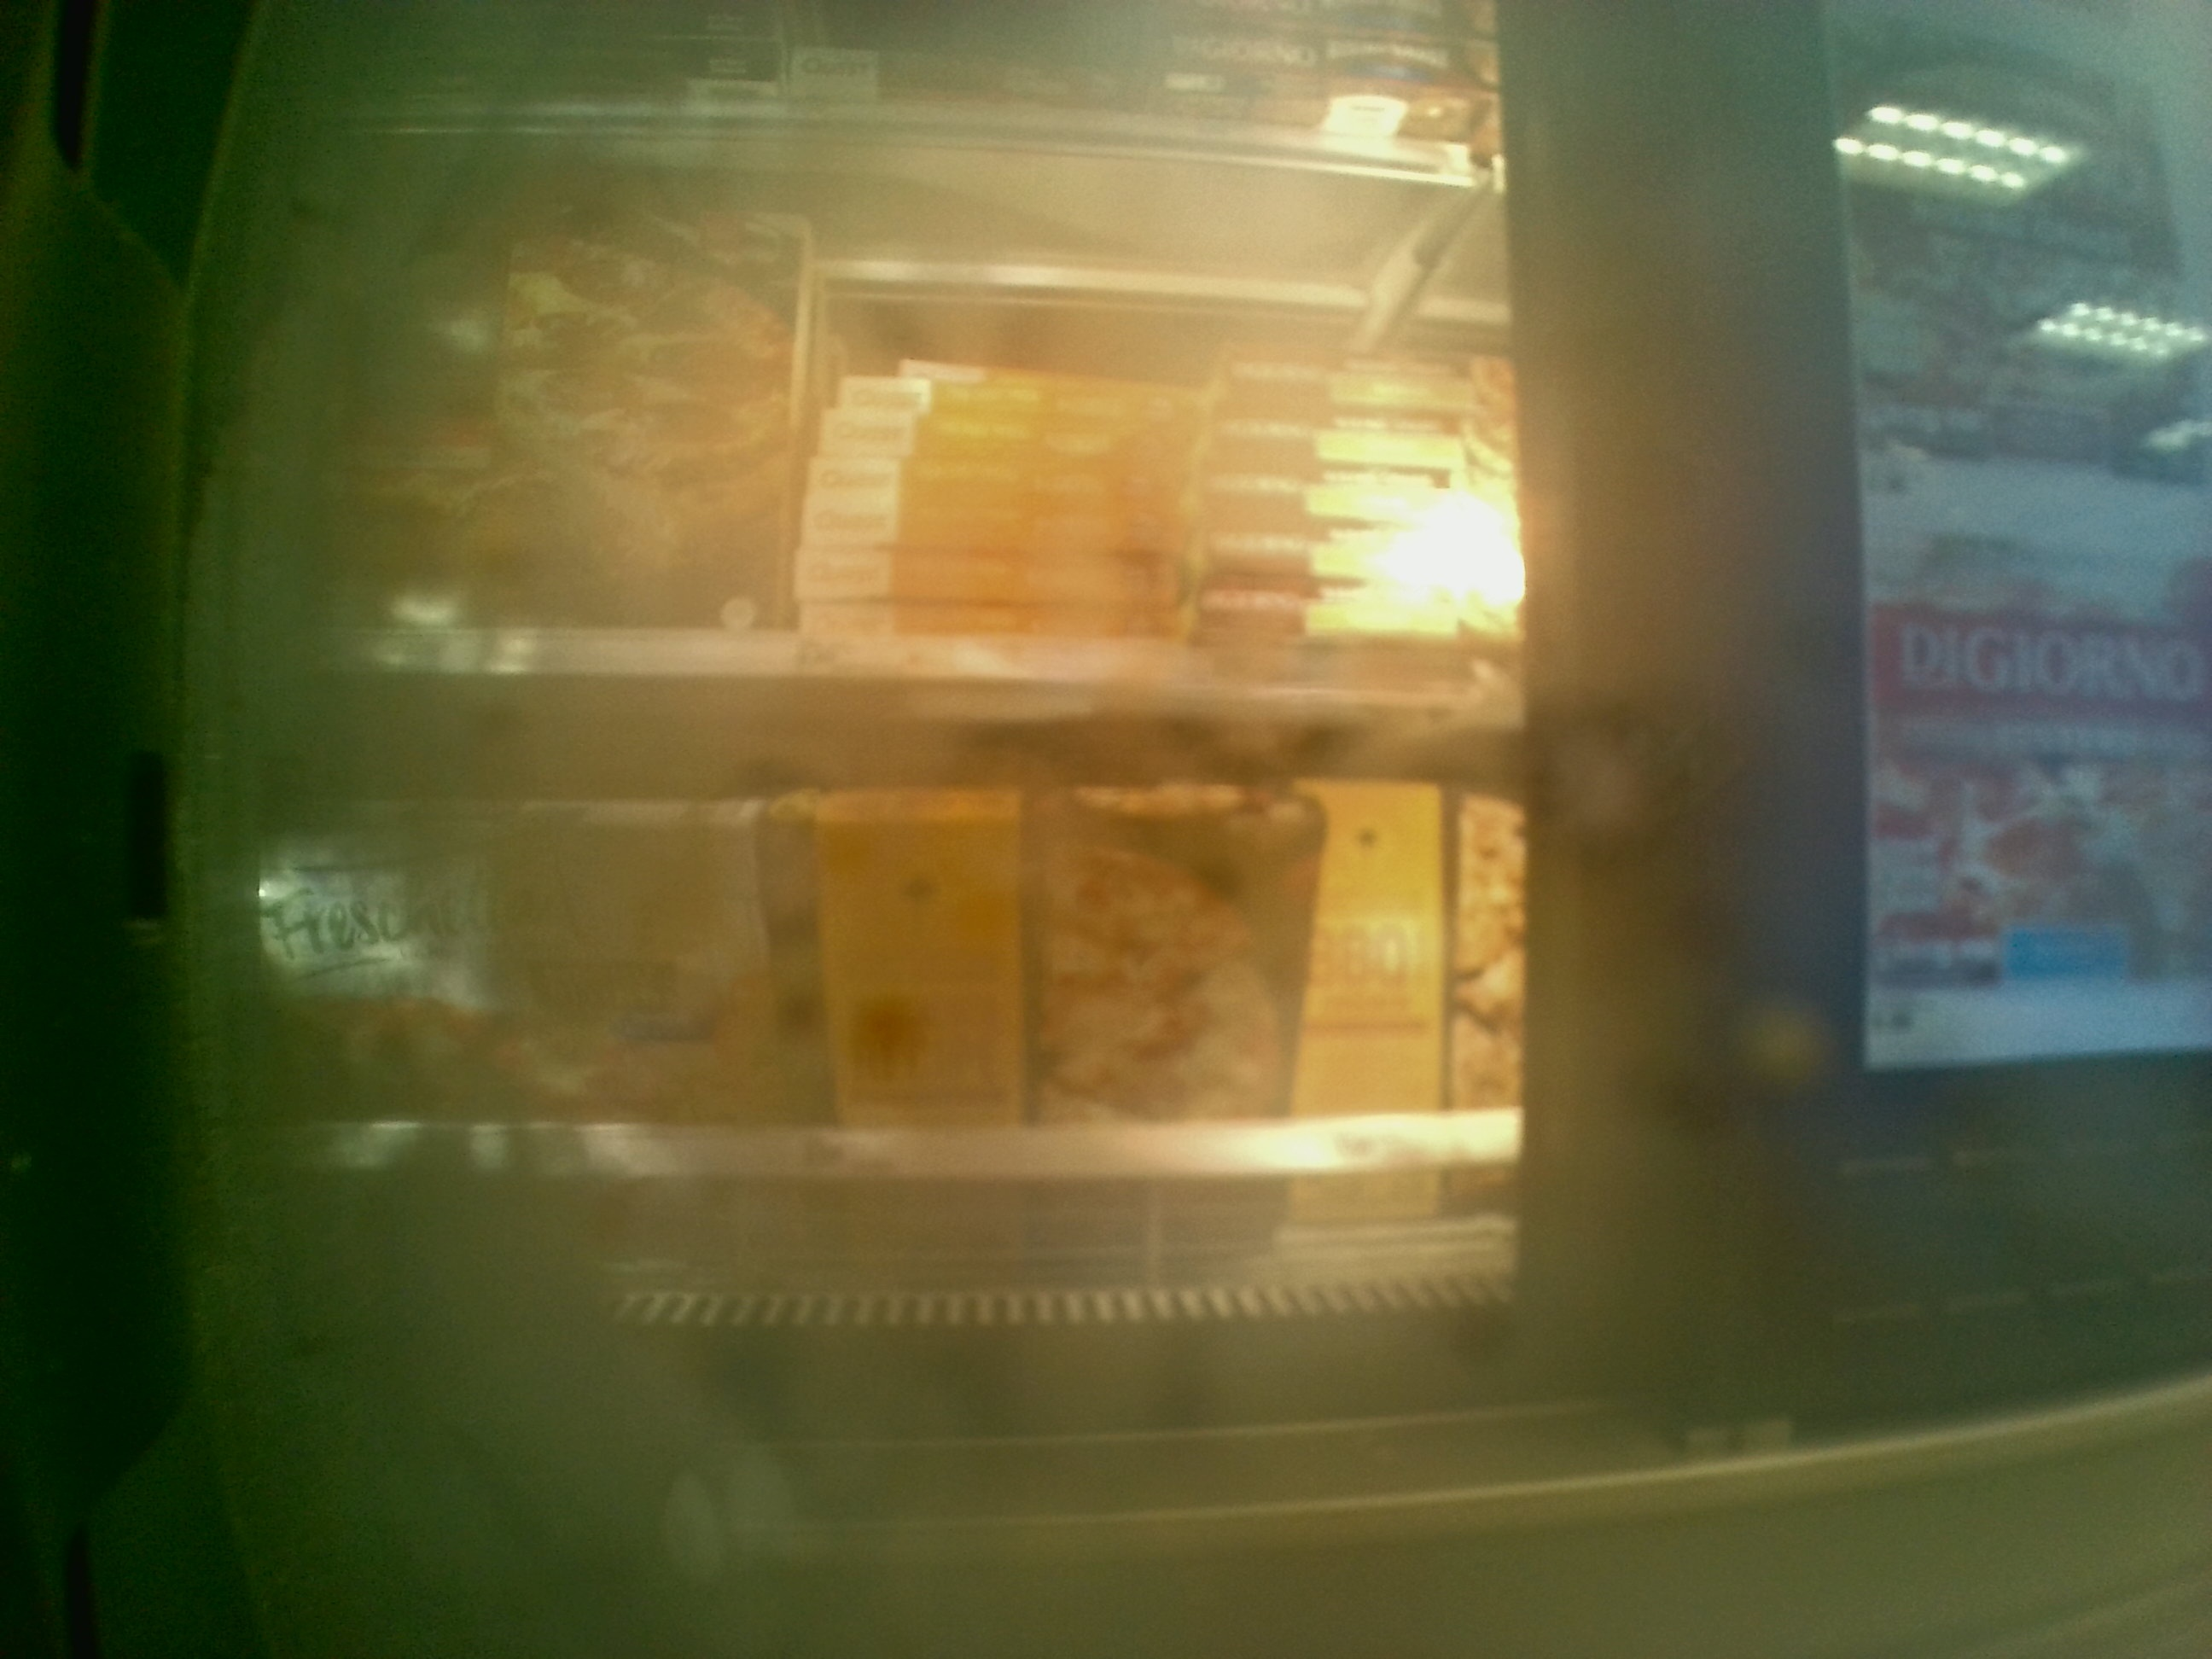pizza: (336, 181, 789, 615), (779, 793, 1318, 1121), (244, 807, 752, 1089), (383, 37, 782, 94), (796, 45, 1144, 110), (803, 502, 1170, 551), (1165, 28, 1453, 89), (813, 420, 1163, 467), (798, 606, 1176, 648), (803, 556, 1170, 598), (808, 462, 1151, 495), (1211, 471, 1446, 518), (1230, 340, 1447, 390), (1216, 411, 1444, 458), (841, 380, 1163, 410), (1211, 596, 1461, 633), (1211, 538, 1460, 572)
